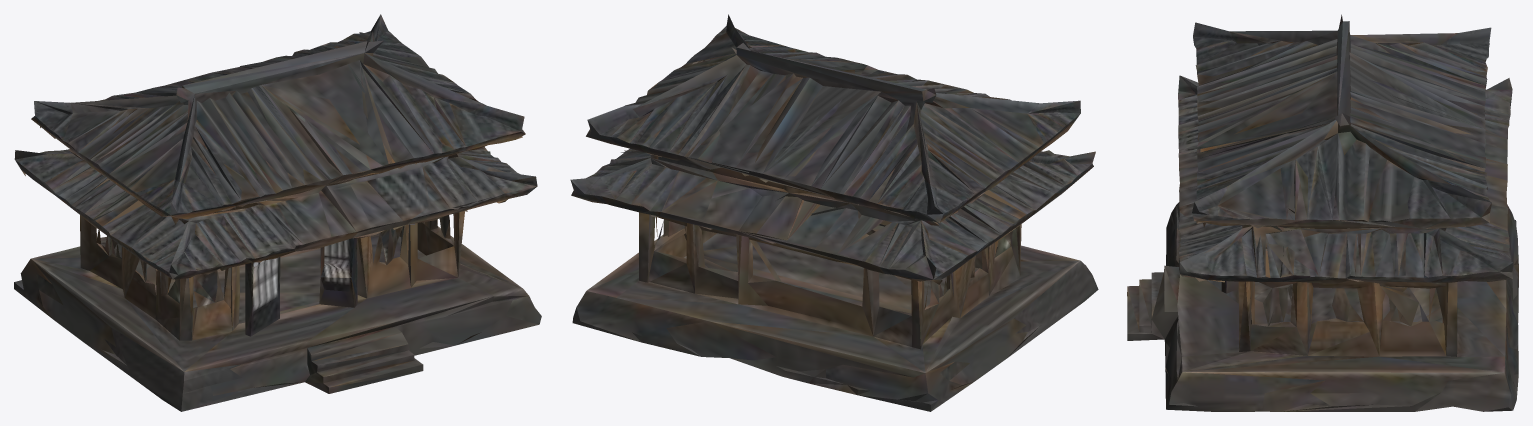
Rendered from gwana_hall.glb.
The picture shows the model from 3 angles, left to right: view 1: azimuth 30°, elevation 25°; view 2: azimuth 150°, elevation 25°; view 3: azimuth 270°, elevation 25°; orthographic projection. The views are drawn at different scales.
Bounding box in the file's own units: 1.9 × 1.2 × 1.67.
1 material, 1 textured.
